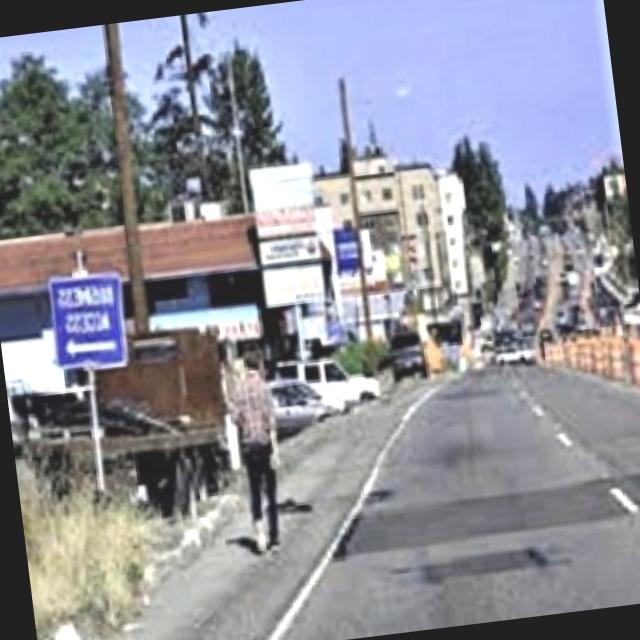Person: (213, 338, 304, 566)
